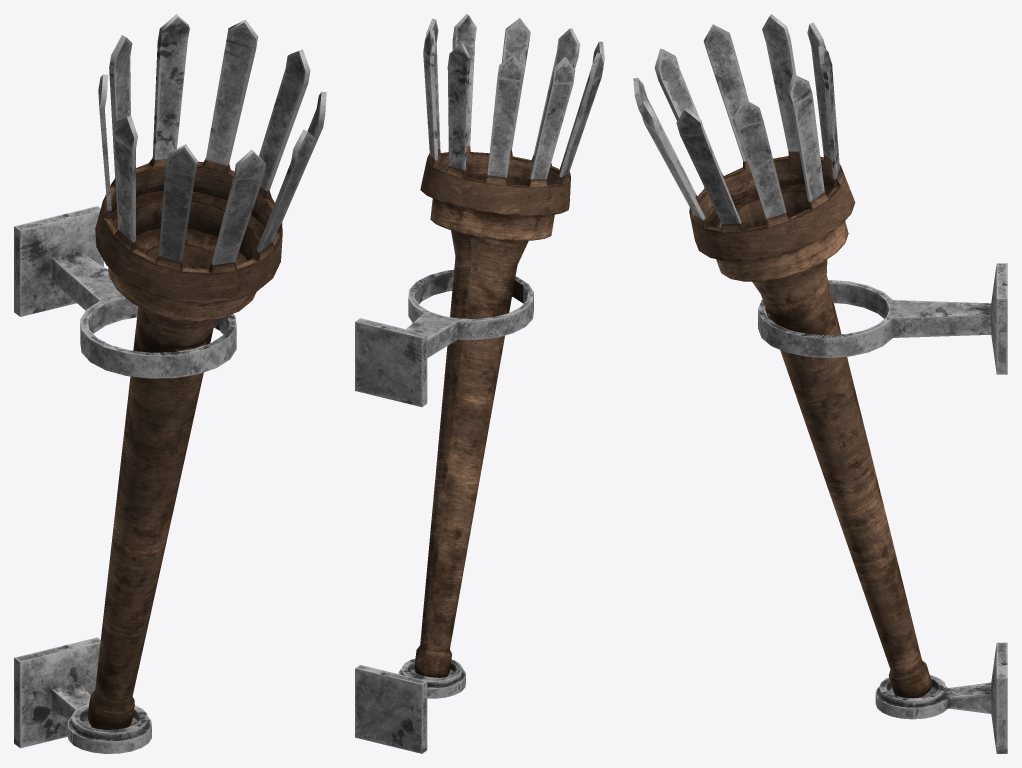
Rendered from WallTorch1.gltf.
3 views of the same model, side by side, from view 1: azimuth 30°, elevation 25°; view 2: azimuth 150°, elevation 25°; view 3: azimuth 270°, elevation 25° (orthographic). The views are drawn at different scales.
Visible parts, largest first — view 1: coffin___graves:Torch_low_coffin___graves:StingrayPBS1_0; view 2: coffin___graves:Torch_low_coffin___graves:StingrayPBS1_0; view 3: coffin___graves:Torch_low_coffin___graves:StingrayPBS1_0.
Part boxes in pixels (x1=…): coffin___graves:Torch_low_coffin___graves:StingrayPBS1_0: x1=14, y1=14, x2=326, y2=753; coffin___graves:Torch_low_coffin___graves:StingrayPBS1_0: x1=355, y1=14, x2=604, y2=753; coffin___graves:Torch_low_coffin___graves:StingrayPBS1_0: x1=633, y1=14, x2=1007, y2=753.
Size of the model in its own units: 0.2962 by 1.14 by 0.5535.
Materials: 1 (1 with a texture image).
